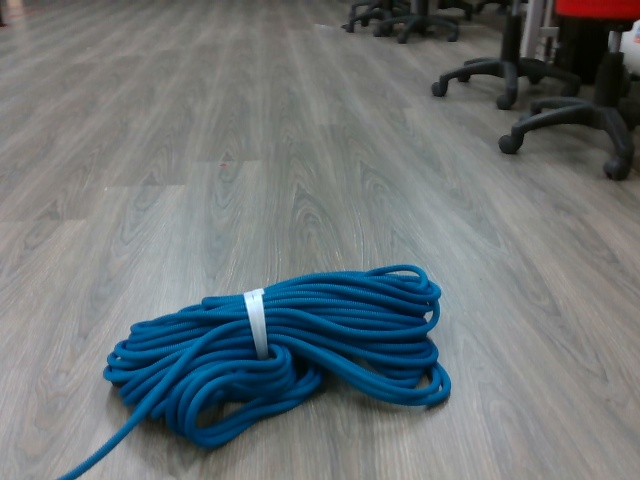rope: (96, 257, 455, 453)
